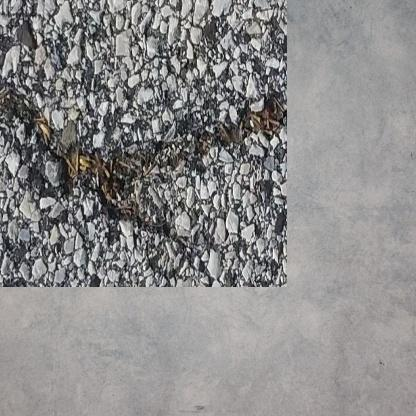Cracks: (0, 67, 265, 218)
